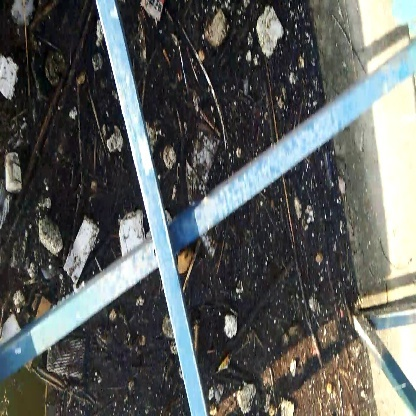branch: (282, 220, 336, 370)
